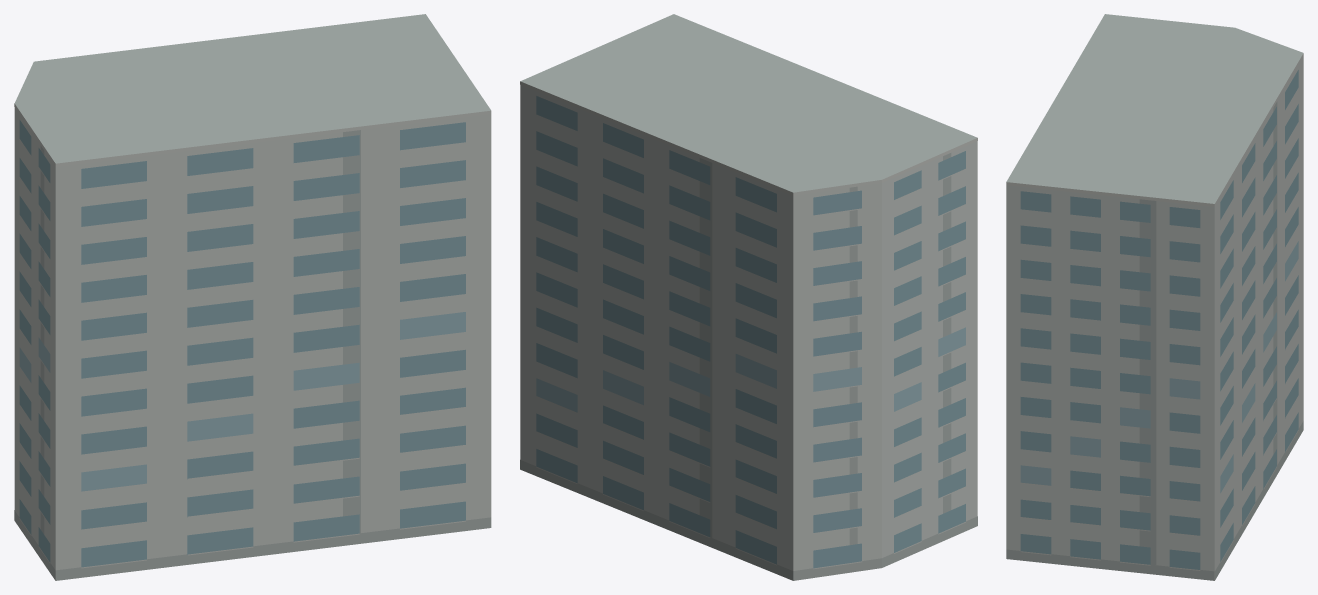
File: residential-5e43f7a5-557f-48b8-82ea-cf3c0109dc06.glb
The picture shows the model from 3 angles, left to right: view 1: azimuth 30°, elevation 25°; view 2: azimuth 150°, elevation 25°; view 3: azimuth 270°, elevation 25°; orthographic projection. The views are drawn at different scales.
Parts seen in each view (by area): view 1: residential-5e43f7a5-557f-48b8-82ea-cf3c0109dc06.tmp; view 2: residential-5e43f7a5-557f-48b8-82ea-cf3c0109dc06.tmp; view 3: residential-5e43f7a5-557f-48b8-82ea-cf3c0109dc06.tmp.
Boxes of the visible parts, x1=… form: residential-5e43f7a5-557f-48b8-82ea-cf3c0109dc06.tmp: x1=14, y1=14, x2=491, y2=580; residential-5e43f7a5-557f-48b8-82ea-cf3c0109dc06.tmp: x1=520, y1=14, x2=977, y2=580; residential-5e43f7a5-557f-48b8-82ea-cf3c0109dc06.tmp: x1=1006, y1=14, x2=1303, y2=580.
Bounding box in the file's own units: 31.35 × 29 × 20.75.
